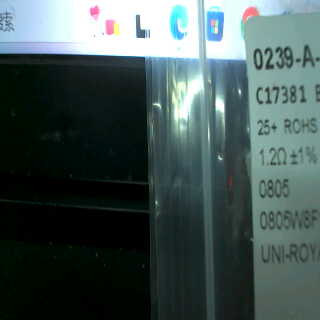1.2R: (256, 146, 290, 201)
